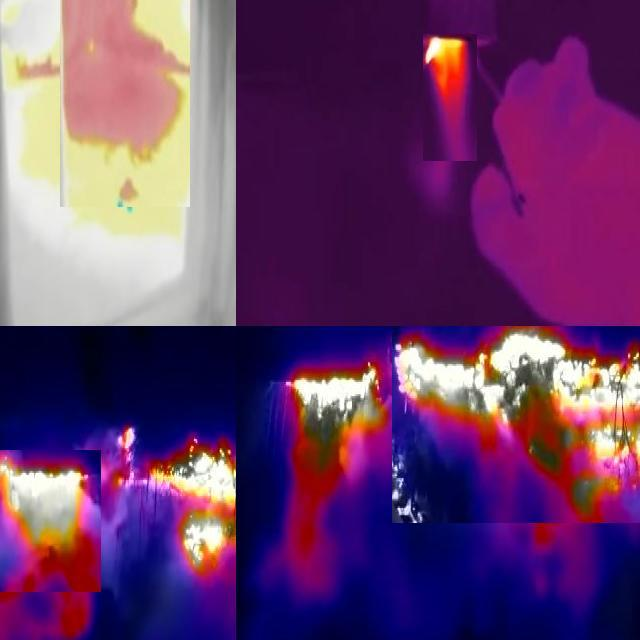fire: (392, 327, 640, 523), (60, 1, 190, 207), (111, 418, 237, 589), (1, 449, 101, 592), (285, 362, 384, 498), (423, 34, 477, 161)
